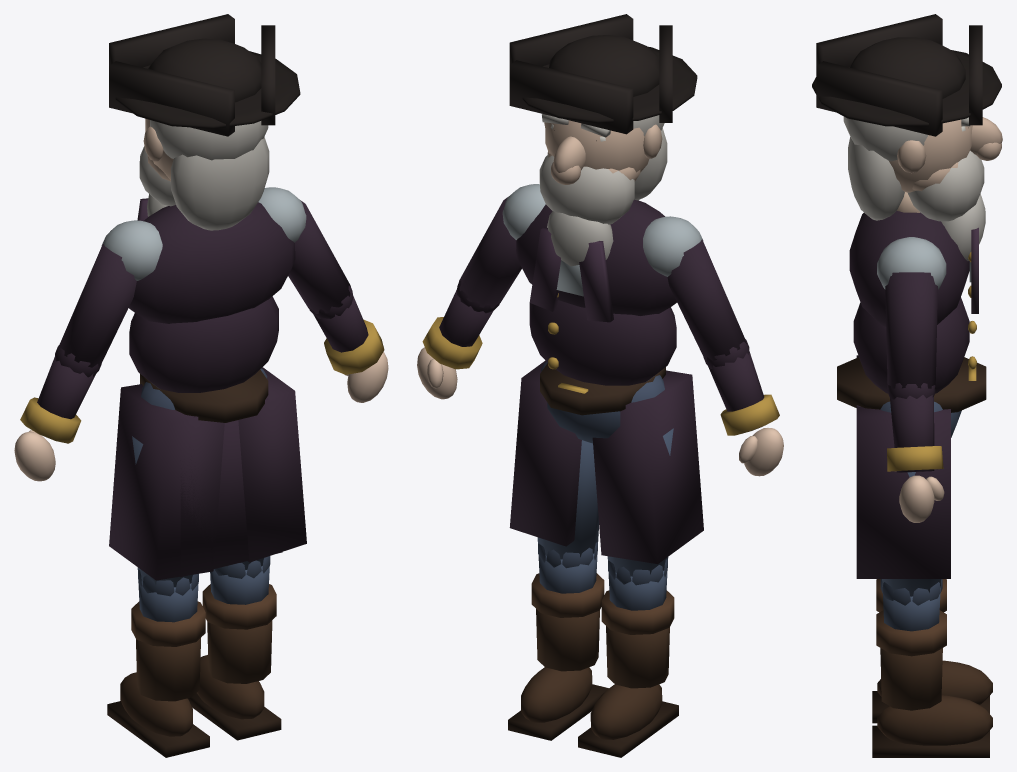
File: capitao_1.glb
The picture shows the model from 3 angles, left to right: view 1: azimuth 30°, elevation 25°; view 2: azimuth 150°, elevation 25°; view 3: azimuth 270°, elevation 25°; orthographic projection.
Parts seen in each view (by area): view 1: Hips, Head, Chest, Spine, RightLowerLeg, LeftLowerLeg, RightUpperArm, RightFoot, RightForeArm, LeftFoot, LeftUpperArm, LeftForeArm (+2 smaller); view 2: Hips, Head, Chest, Spine, RightLowerLeg, LeftLowerLeg, RightUpperArm, RightFoot, LeftFoot, RightForeArm, LeftUpperArm, LeftForeArm (+4 smaller); view 3: Head, Hips, Chest, LeftLowerLeg, LeftFoot, LeftUpperArm, Spine, LeftForeArm, RightFoot, LeftHand, LeftUpperLeg, RightLowerLeg.
Part boxes in pixels (x1,y1,x2,y2): Hips: [109, 367, 306, 580]; Head: [109, 14, 300, 230]; Chest: [101, 187, 306, 323]; Spine: [129, 296, 278, 392]; RightLowerLeg: [131, 569, 205, 701]; LeftLowerLeg: [202, 556, 276, 683]; RightUpperArm: [57, 243, 136, 368]; RightFoot: [107, 672, 209, 757]; RightForeArm: [20, 345, 101, 443]; LeftFoot: [187, 655, 281, 740]; LeftUpperArm: [288, 200, 350, 313]; LeftForeArm: [309, 286, 384, 374]; Hips: [509, 360, 703, 564]; Head: [509, 14, 697, 266]; Chest: [502, 184, 703, 322]; Spine: [529, 300, 676, 385]; RightLowerLeg: [601, 559, 674, 688]; LeftLowerLeg: [531, 542, 604, 671]; RightUpperArm: [667, 239, 746, 362]; RightFoot: [578, 684, 678, 757]; LeftFoot: [508, 667, 608, 740]; RightForeArm: [703, 339, 779, 435]; LeftUpperArm: [459, 197, 521, 308]; LeftForeArm: [422, 280, 500, 369]; Head: [812, 14, 1002, 260]; Hips: [837, 355, 986, 578]; Chest: [849, 211, 978, 326]; LeftLowerLeg: [876, 579, 946, 710]; LeftFoot: [872, 695, 992, 757]; LeftUpperArm: [885, 272, 937, 389]; Spine: [853, 297, 976, 393]; LeftForeArm: [887, 383, 943, 472]; RightFoot: [872, 660, 992, 723]; LeftHand: [899, 475, 944, 522]; LeftUpperLeg: [882, 472, 941, 596]; RightLowerLeg: [876, 579, 946, 612].
Bounding box in the file's own units: 1.09 × 1.92 × 0.4862.
